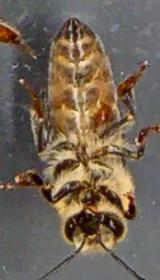varroa_mite: (89, 99, 115, 132)
